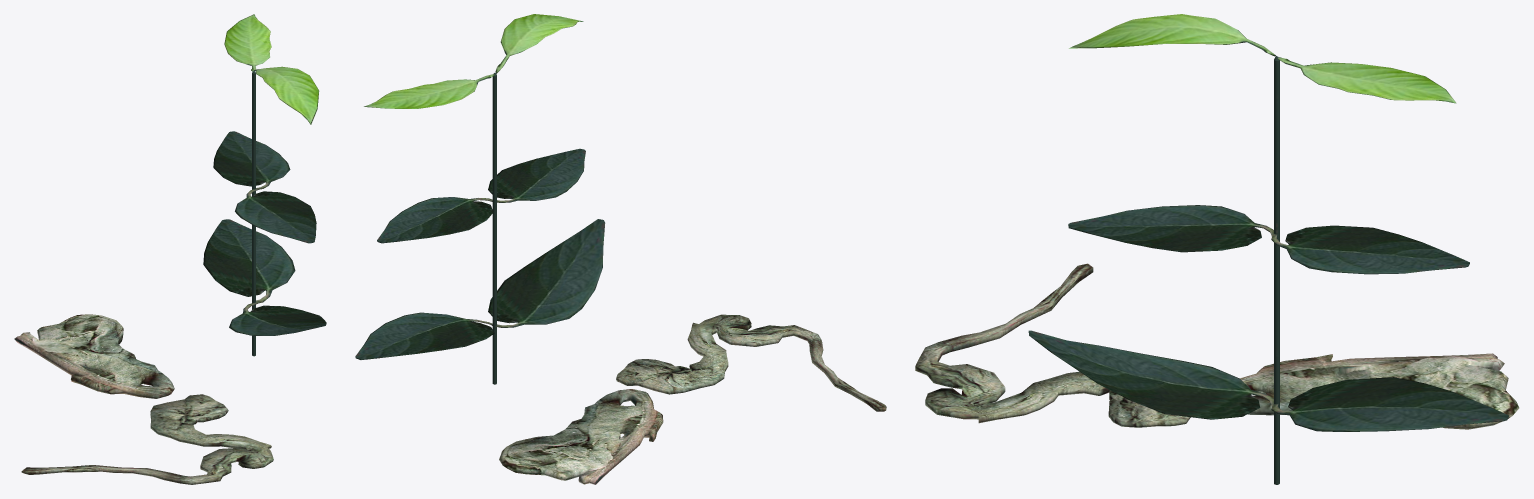
The model's file is daqingye.FBX.
3 renders of one model, left to right at view 1: azimuth 30°, elevation 25°; view 2: azimuth 150°, elevation 25°; view 3: azimuth 270°, elevation 25°, orthographic. The views are drawn at different scales.
Visible parts, largest first — view 1: Line001, Line002, Line005, Line006, Line007, Line004, Line008, Line003, Cylinder001; view 2: Line001, Line004, Line002, Line005, Line007, Line006, Line003, Line008, Cylinder001; view 3: Line002, Line004, Line005, Line001, Line006, Line007, Line008, Line003, Cylinder001.
Boxes of the visible parts, bbox=[...] form: Line001: bbox=[14, 314, 174, 398]; Line002: bbox=[21, 394, 273, 484]; Line005: bbox=[203, 219, 295, 303]; Line006: bbox=[235, 188, 316, 243]; Line007: bbox=[213, 131, 290, 189]; Line004: bbox=[229, 303, 326, 335]; Line008: bbox=[253, 66, 319, 124]; Line003: bbox=[224, 14, 271, 71]; Cylinder001: bbox=[252, 71, 255, 356]; Line001: bbox=[499, 389, 663, 484]; Line004: bbox=[488, 219, 605, 327]; Line002: bbox=[616, 314, 886, 411]; Line005: bbox=[355, 312, 497, 359]; Line007: bbox=[377, 197, 493, 243]; Line006: bbox=[488, 148, 585, 202]; Line003: bbox=[364, 74, 494, 108]; Line008: bbox=[495, 14, 583, 73]; Cylinder001: bbox=[492, 73, 496, 384]; Line002: bbox=[915, 263, 1190, 427]; Line004: bbox=[1028, 330, 1273, 419]; Line005: bbox=[1271, 377, 1508, 431]; Line001: bbox=[1240, 353, 1519, 429]; Line006: bbox=[1068, 205, 1275, 252]; Line007: bbox=[1271, 225, 1469, 274]; Line008: bbox=[1069, 14, 1276, 56]; Line003: bbox=[1277, 57, 1456, 103]; Cylinder001: bbox=[1274, 56, 1279, 484].
Size of the model in its own units: 57.94 by 46.63 by 56.11.
